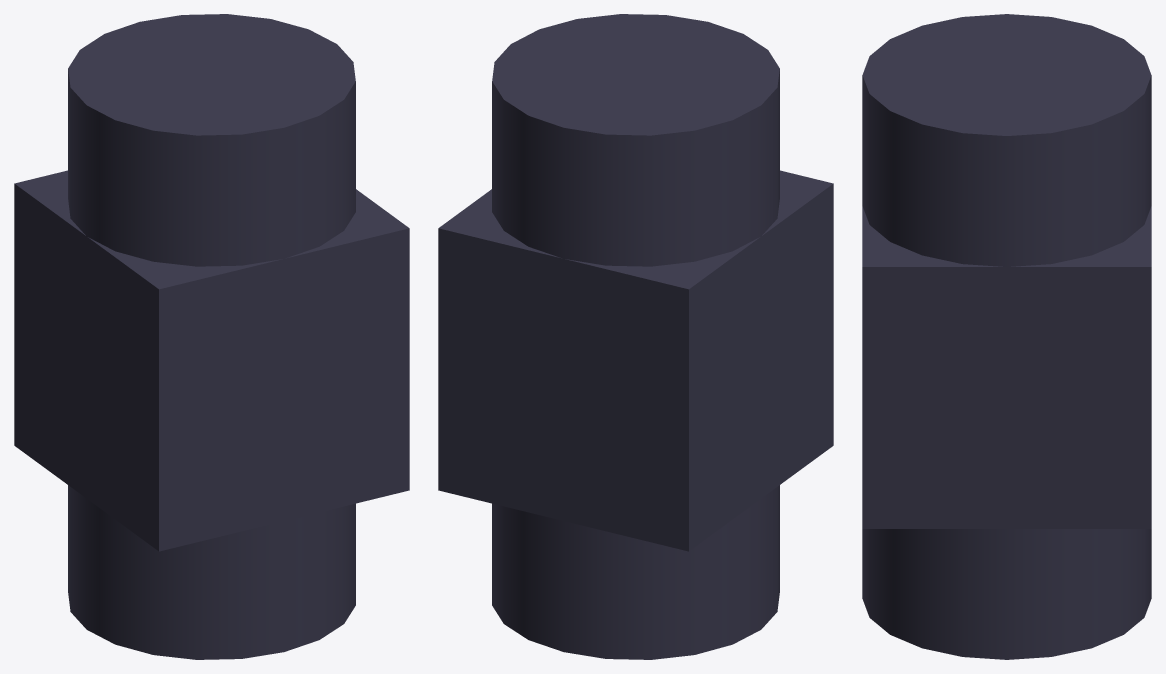
File: sweeper.fbx
3 views of the same model, side by side, from view 1: azimuth 30°, elevation 25°; view 2: azimuth 150°, elevation 25°; view 3: azimuth 270°, elevation 25° (orthographic).
Visible parts, largest first — view 1: Cube, Cylinder; view 2: Cube, Cylinder; view 3: Cylinder, Cube.
Boxes of the visible parts, x1,y1,x2,y2 form: Cube: (14,170,409,551); Cylinder: (68,14,355,659); Cube: (438,170,833,551); Cylinder: (492,14,779,659); Cylinder: (862,14,1151,659); Cube: (862,206,1151,528).
Bounding box in the file's own units: 100 × 200 × 100.
